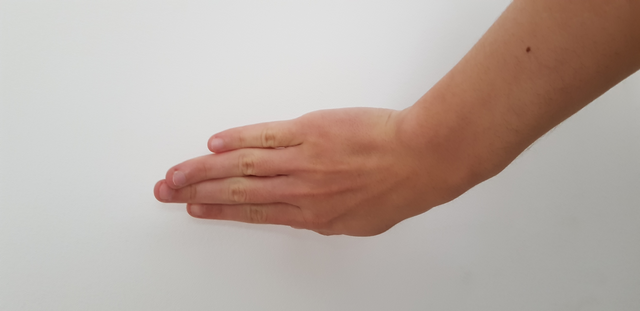Paper: (99, 87, 487, 247)
